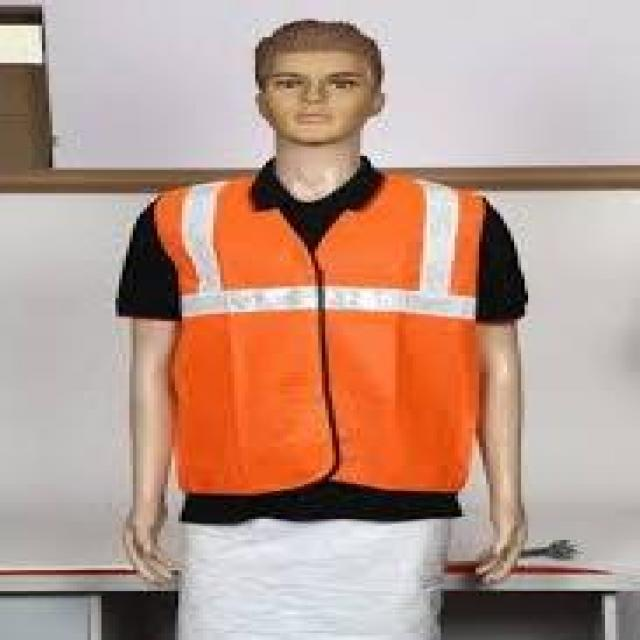Reflective-Jacket: (133, 172, 507, 508)
